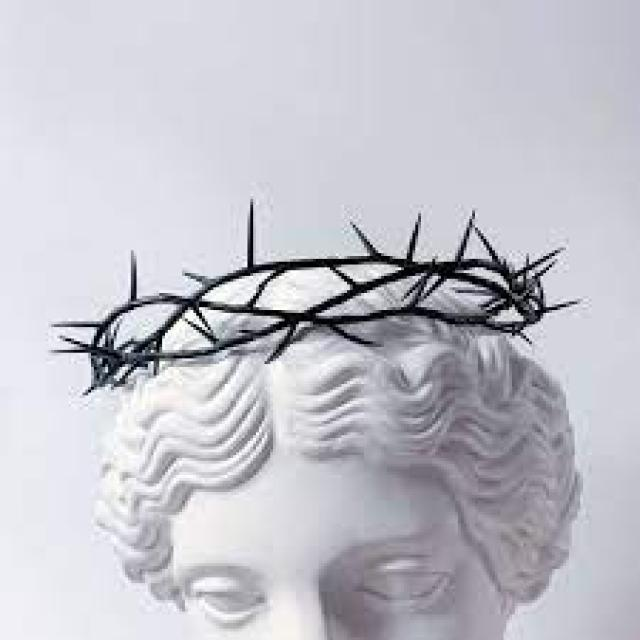crown: (48, 195, 598, 391)
